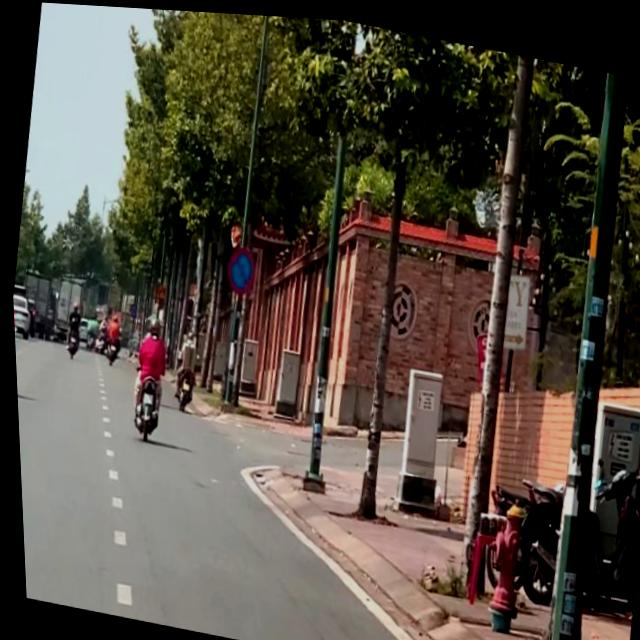Cam do xe: (221, 241, 257, 296)
Cam dung xe va do xe: (127, 301, 135, 317)
cho ngoat nguy hiem vong ben phai: (152, 281, 164, 298)
